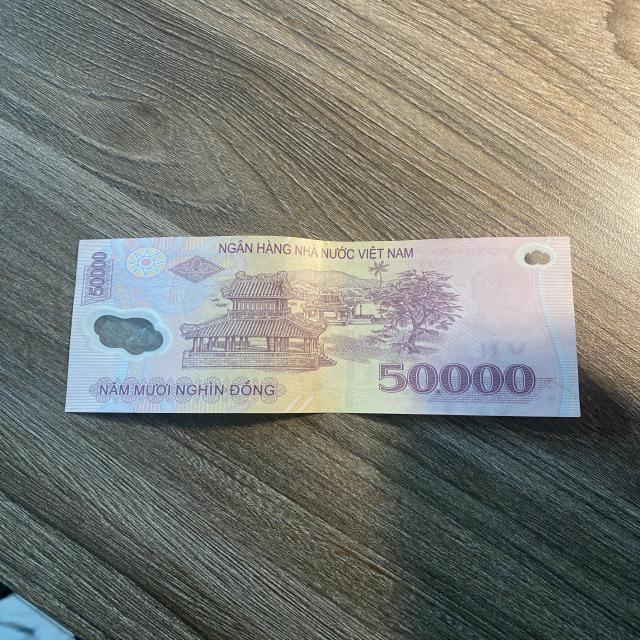50 000 VND: (63, 233, 583, 419)
